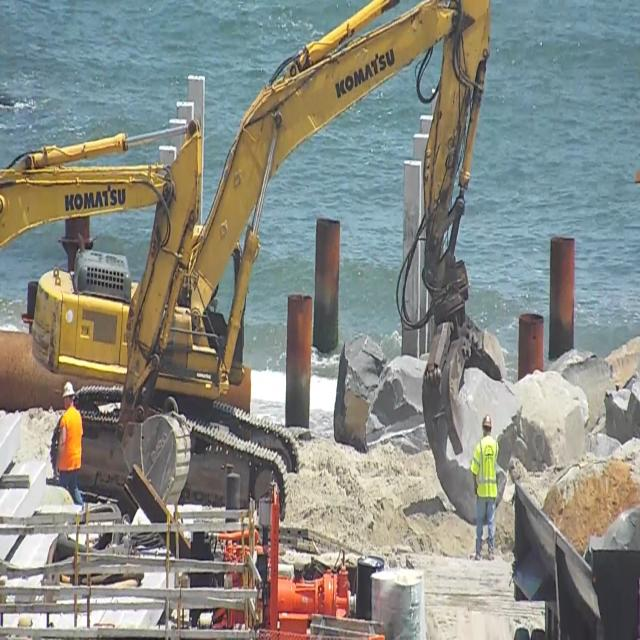machinery: (29, 0, 512, 523), (54, 380, 86, 494), (477, 414, 497, 558)
